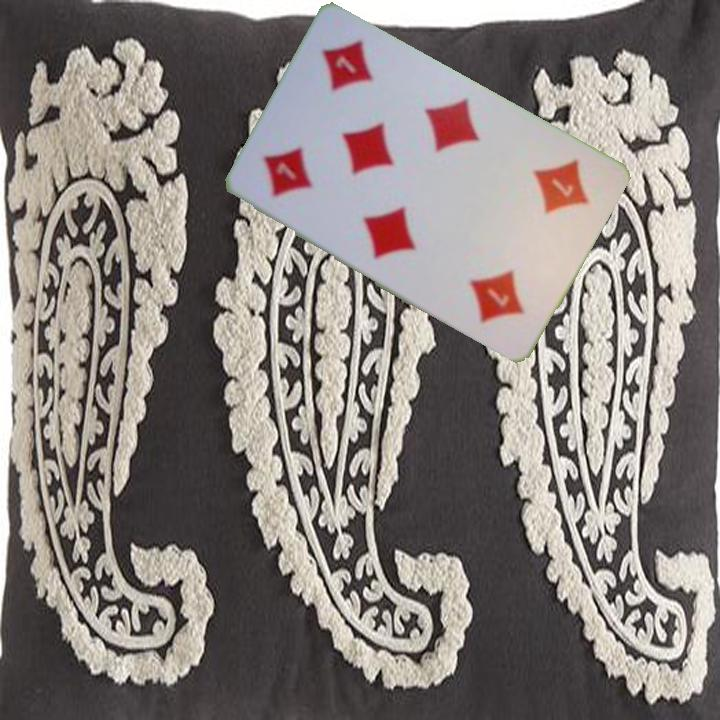d_7.png: (238, 103, 360, 230), (490, 135, 612, 262)
